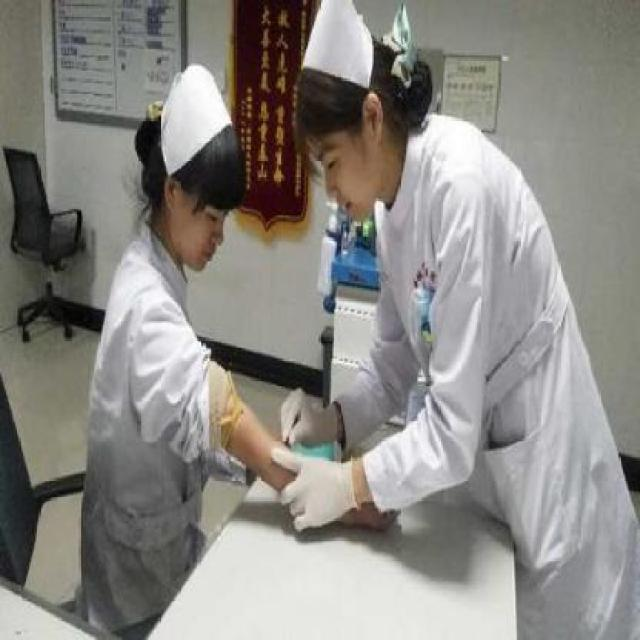face_nomask: (154, 178, 246, 282), (300, 123, 383, 217)
hand_glove: (272, 446, 343, 539), (274, 382, 332, 448)
hand_noglove: (352, 500, 400, 534)
head_nohelmet: (154, 85, 251, 206), (288, 47, 368, 142)
person: (269, 6, 640, 640), (92, 63, 265, 640)
